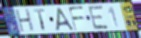1: (108, 6, 119, 28)
A: (55, 7, 76, 32)
E: (88, 6, 110, 31)
F: (68, 5, 85, 32)
H: (15, 9, 36, 34)
T: (32, 9, 47, 32)
